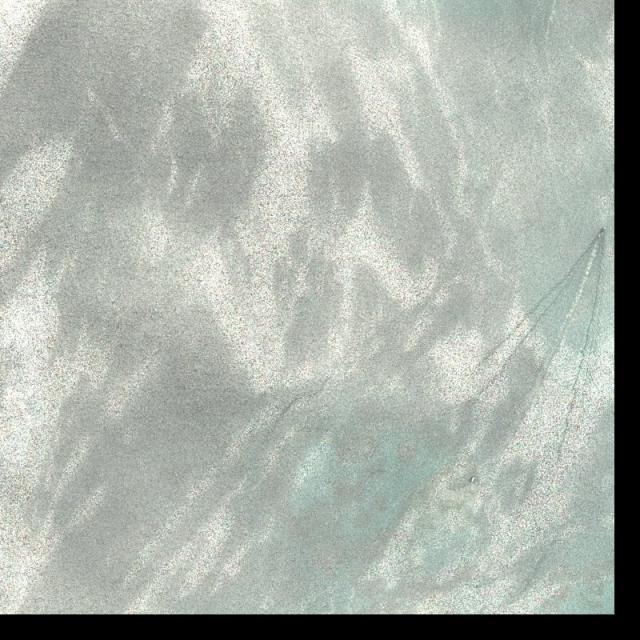ship: (601, 227, 608, 235)
